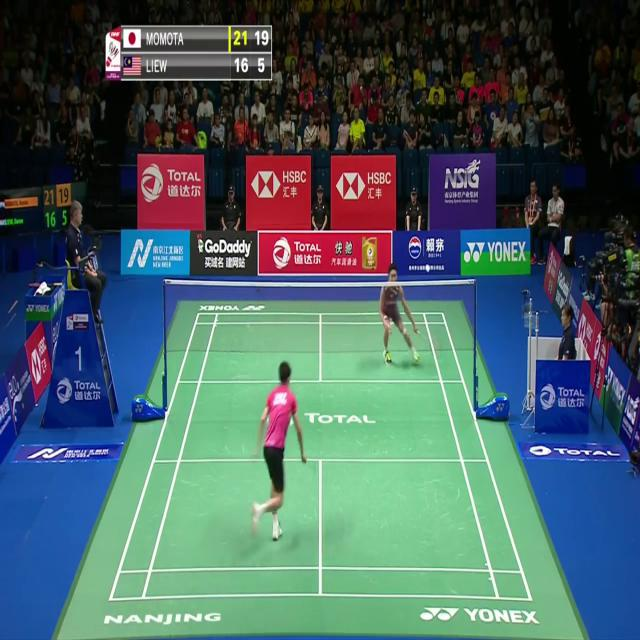Shuttlecock: (424, 262, 431, 273)
